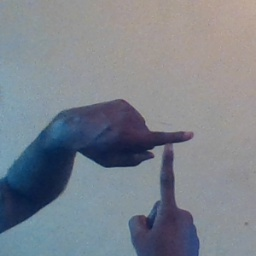T: (114, 111, 214, 226)
